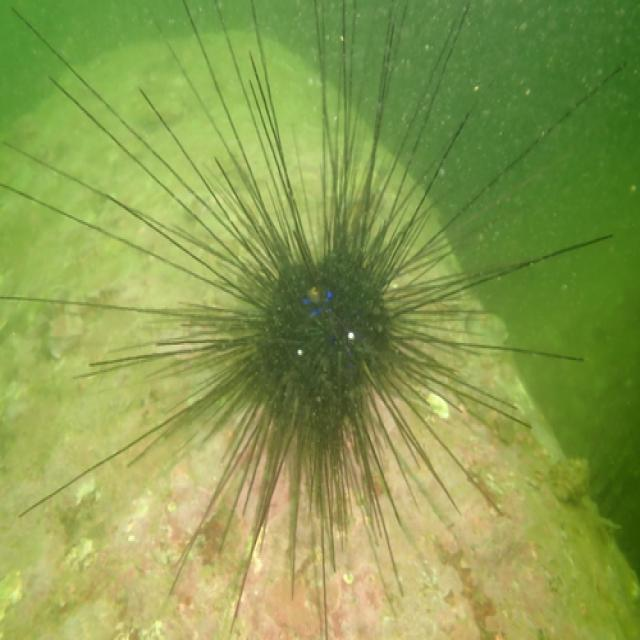Urchin: (2, 2, 612, 623)
